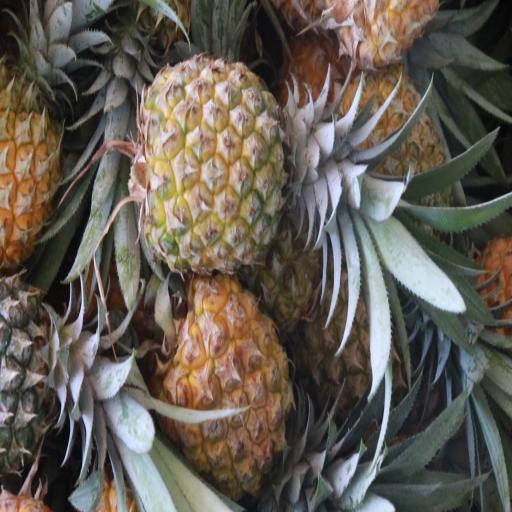------------------------------: (337, 72, 447, 236)
Pineapple - v8 v1: (140, 58, 287, 270), (159, 272, 288, 494), (0, 69, 67, 267)
